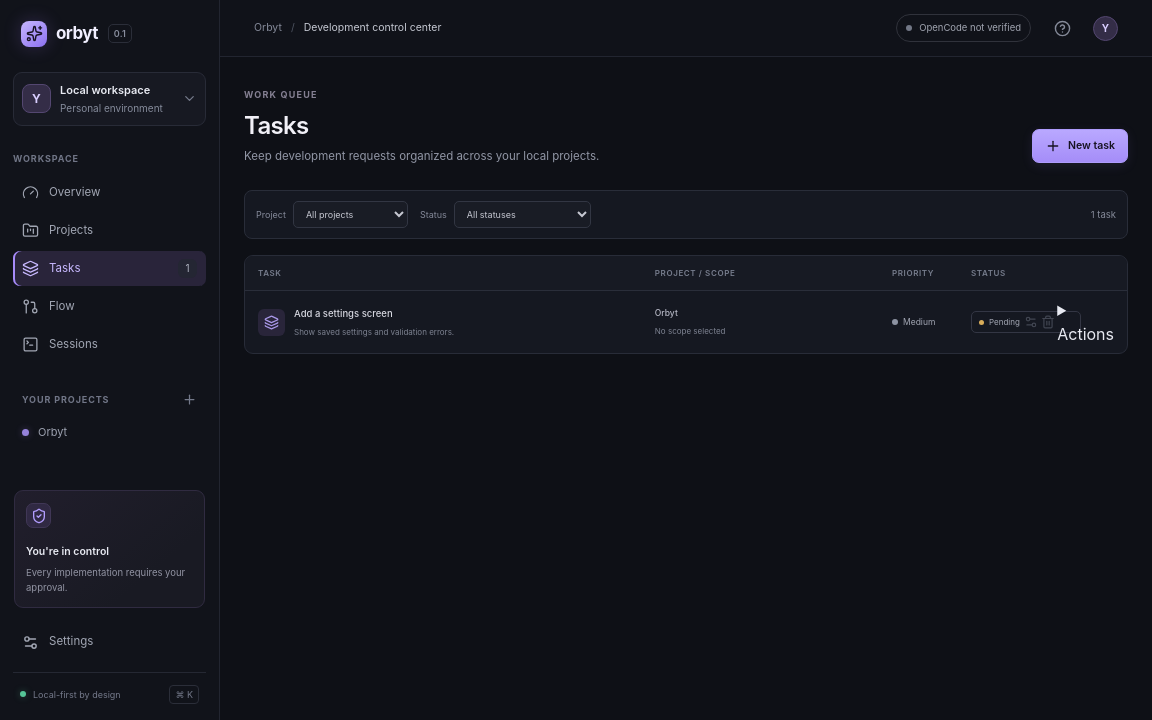
it: task triage and workflow controls › runs triage and renders its report without exposing generic execution state changes
This screenshot has width=1152, height=720.
Check: the text "Add a settings screen" is shown, box [294,308,393,319]
Click the heading "Actions" at (1086, 334), box [1057,324,1114,344]
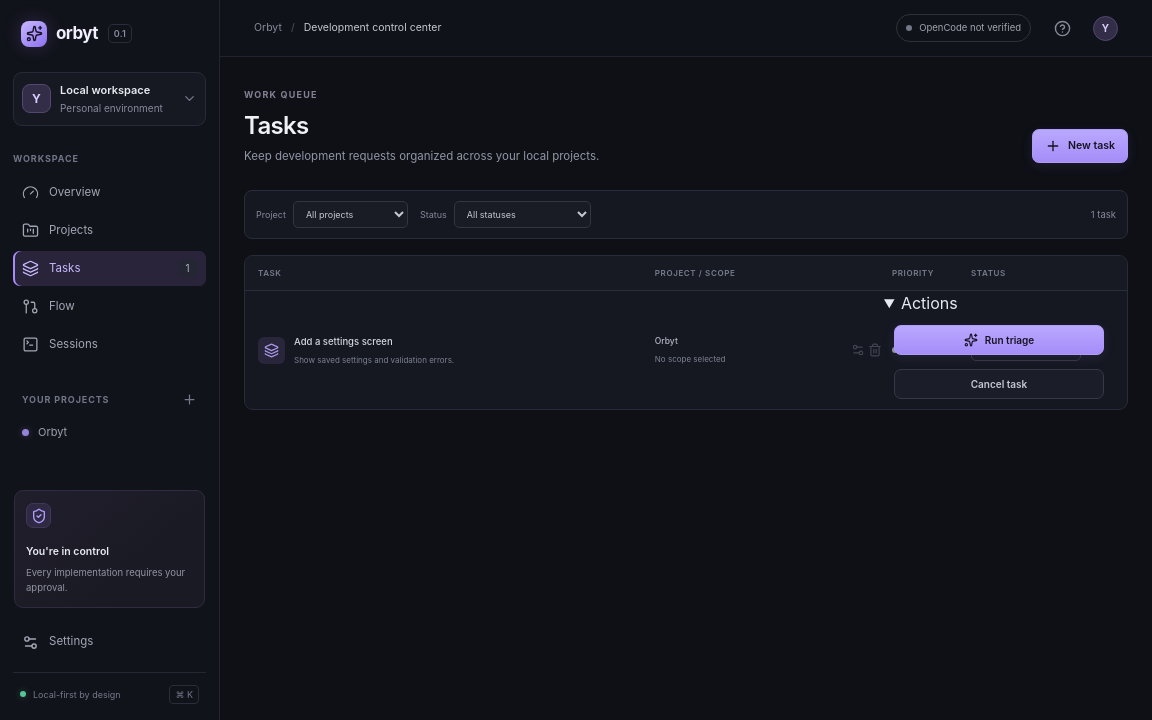
Click the button "Run triage" at (999, 340), box [894,325,1104,355]
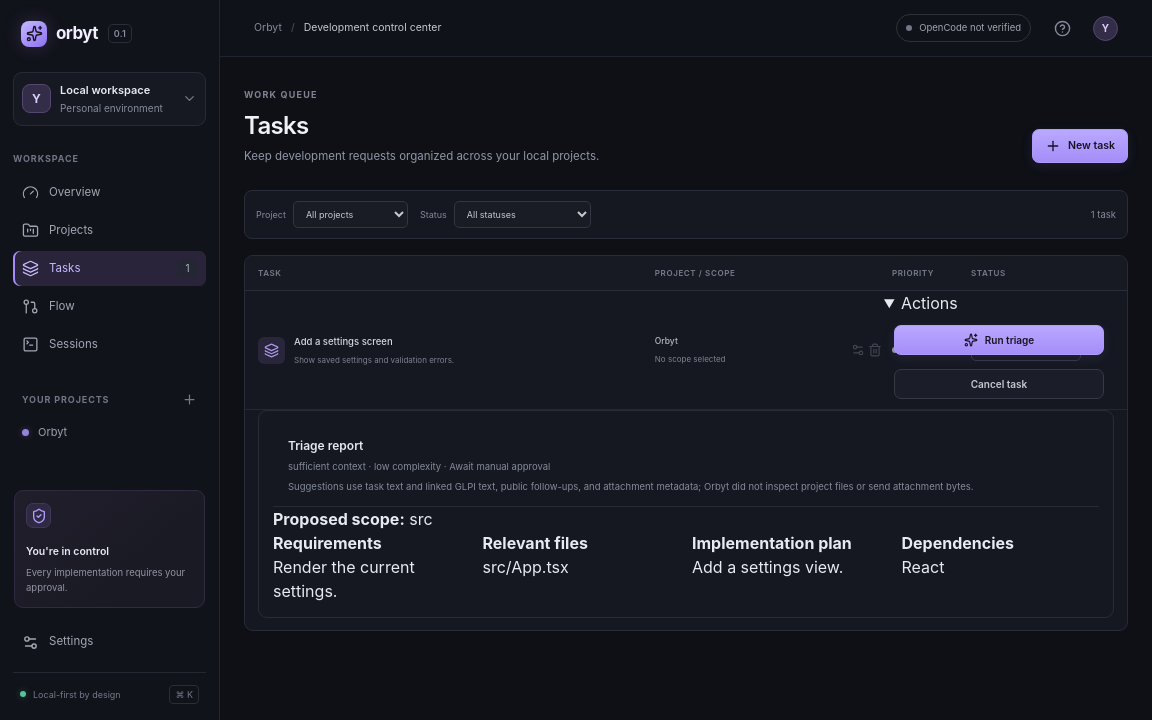
Check: the element "Triage report" is shown, box [258,410,1114,618]
Check: the list item "Render the current settings." is shown, box [273,557,415,601]
Check: the text "sufficient context · low complexity · Await manual approval" is shown, box [288,461,550,472]
